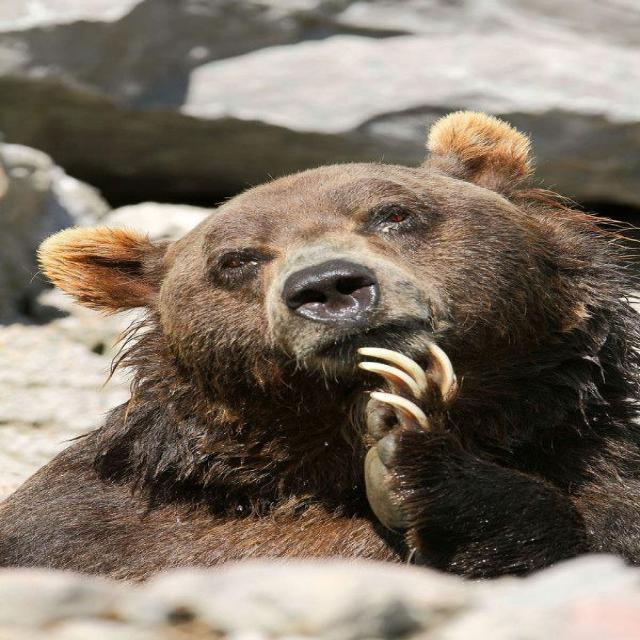Bear: (0, 112, 640, 582)
